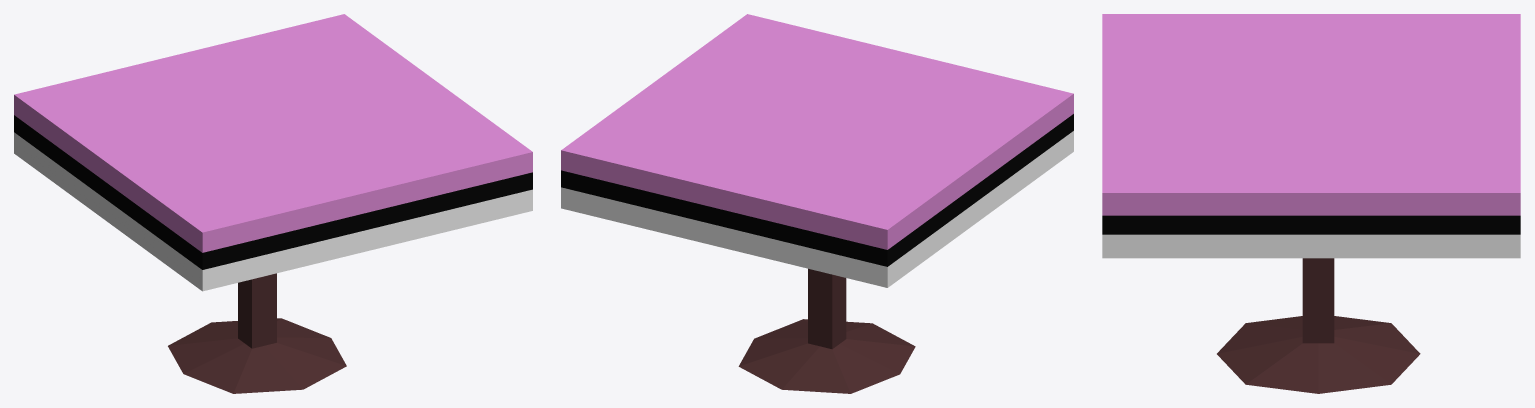
The model's file is Pink table.fbx.
The picture shows the model from 3 angles, left to right: view 1: azimuth 30°, elevation 25°; view 2: azimuth 150°, elevation 25°; view 3: azimuth 270°, elevation 25°; orthographic projection. The views are drawn at different scales.
Parts seen in each view (by area): view 1: Table pink; view 2: Table pink; view 3: Table pink.
Boxes of the visible parts, box(x1,y1,x2,y2) form: Table pink: box(14, 14, 532, 393); Table pink: box(561, 14, 1073, 393); Table pink: box(1102, 14, 1520, 393).
Size of the model in its own units: 256 by 172 by 253.
